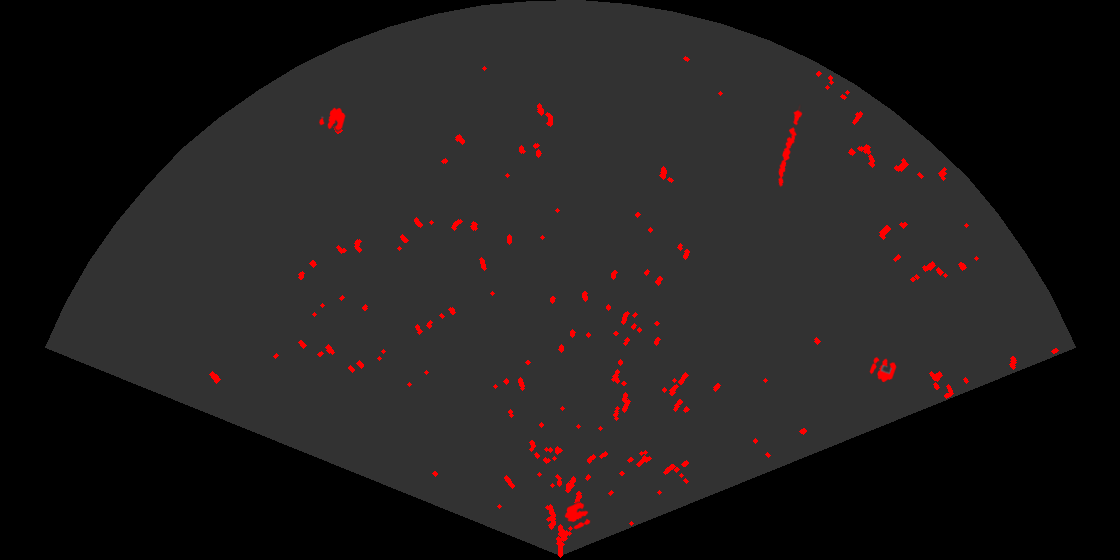ball: (563, 501, 592, 531), (868, 355, 898, 384), (318, 106, 347, 133)
chain: (777, 104, 804, 188)
